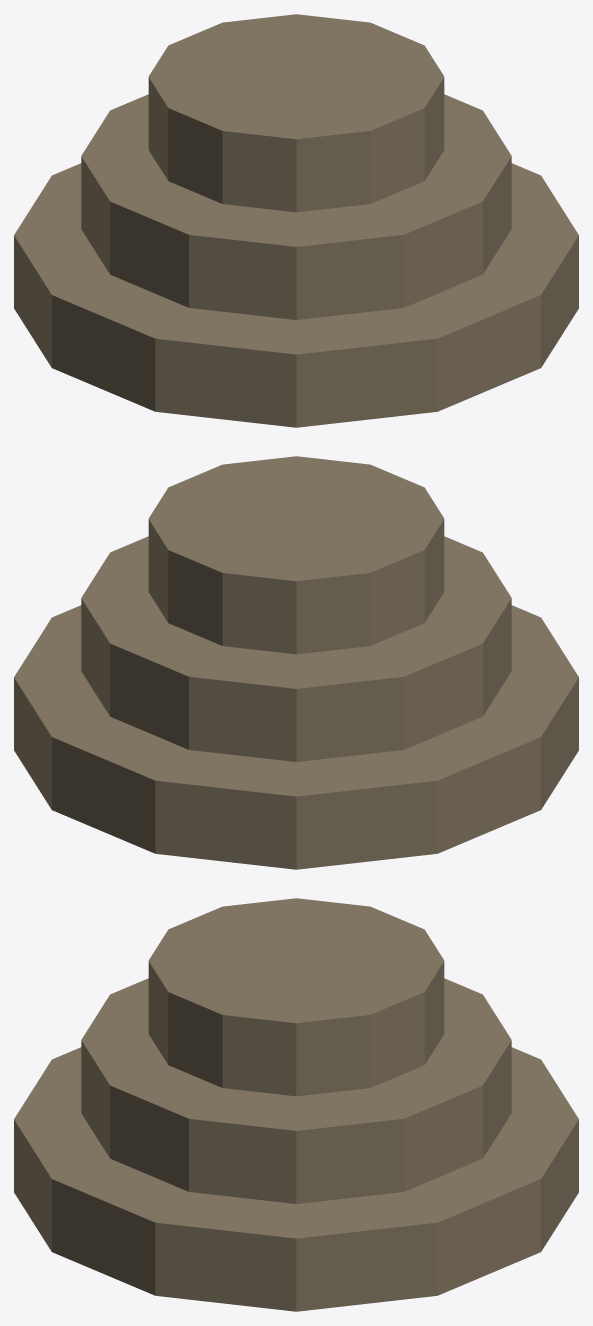
File: A_rope.glb
The picture shows the model from 3 angles, top to bottom: view 1: azimuth 30°, elevation 25°; view 2: azimuth 150°, elevation 25°; view 3: azimuth 270°, elevation 25°; orthographic projection.
Parts seen in each view (by area): view 1: A_rope; view 2: A_rope; view 3: A_rope.
Boxes of the visible parts, box(x1,y1,x2,y2) form: A_rope: box(14, 14, 578, 427); A_rope: box(14, 456, 578, 869); A_rope: box(14, 898, 578, 1311).
Size of the model in its own units: 0.84 by 0.38 by 0.84.
